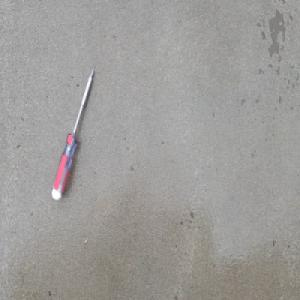Screwdriver: (50, 66, 96, 201)
